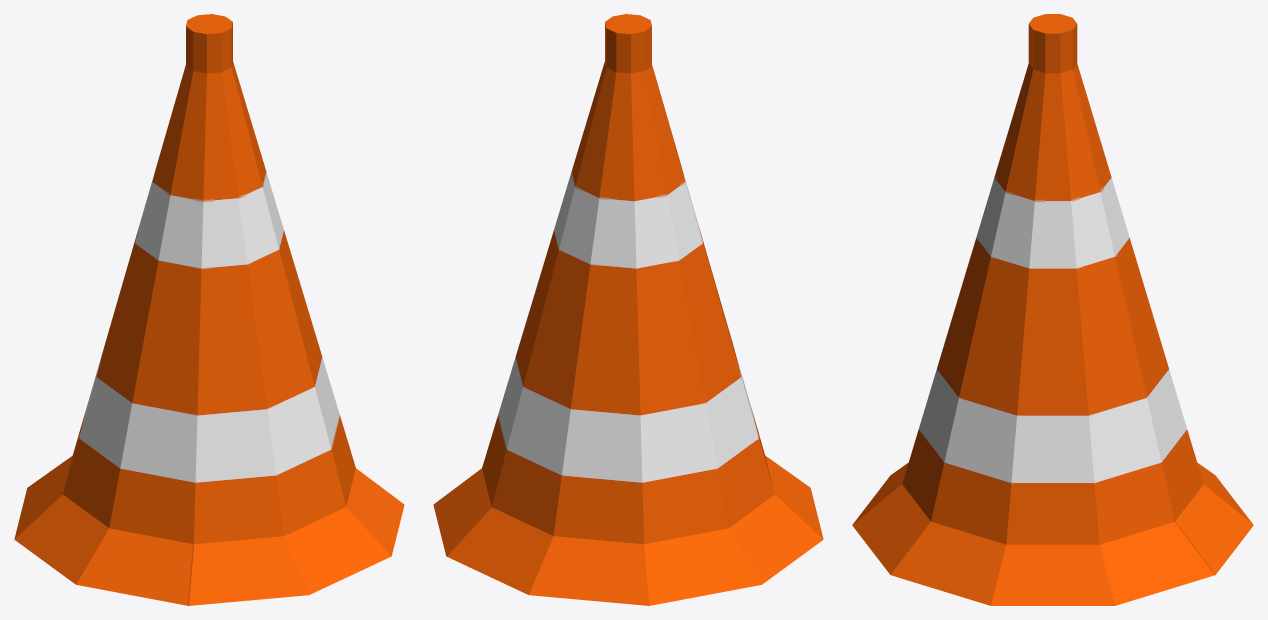
3 renders of one model, left to right at view 1: azimuth 30°, elevation 25°; view 2: azimuth 150°, elevation 25°; view 3: azimuth 270°, elevation 25°, orthographic.
Visible parts, largest first — view 1: Cylinder; view 2: Cylinder; view 3: Cylinder.
Part boxes in pixels (x1,y1,x2,y2): Cylinder: (14,14,404,605); Cylinder: (433,14,823,605); Cylinder: (852,14,1253,605).
Bounding box in the file's own units: 1.65 × 2.38 × 1.73.
